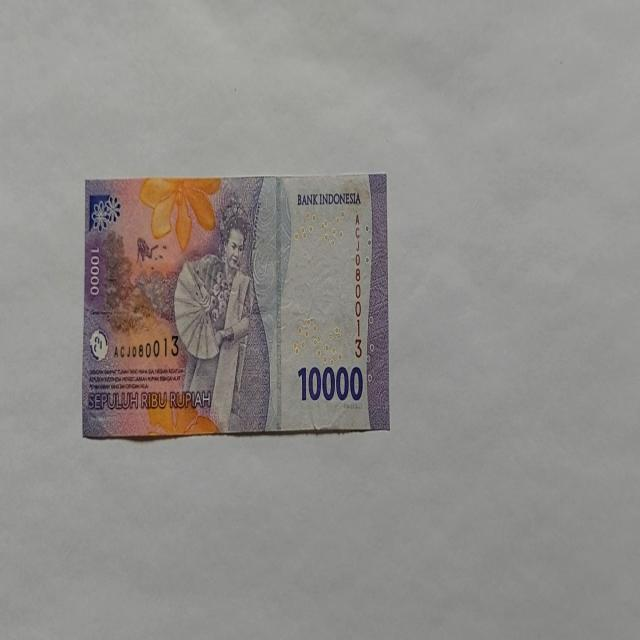sepuluh ribu rupiah: (82, 172, 390, 440), (296, 362, 364, 404)
